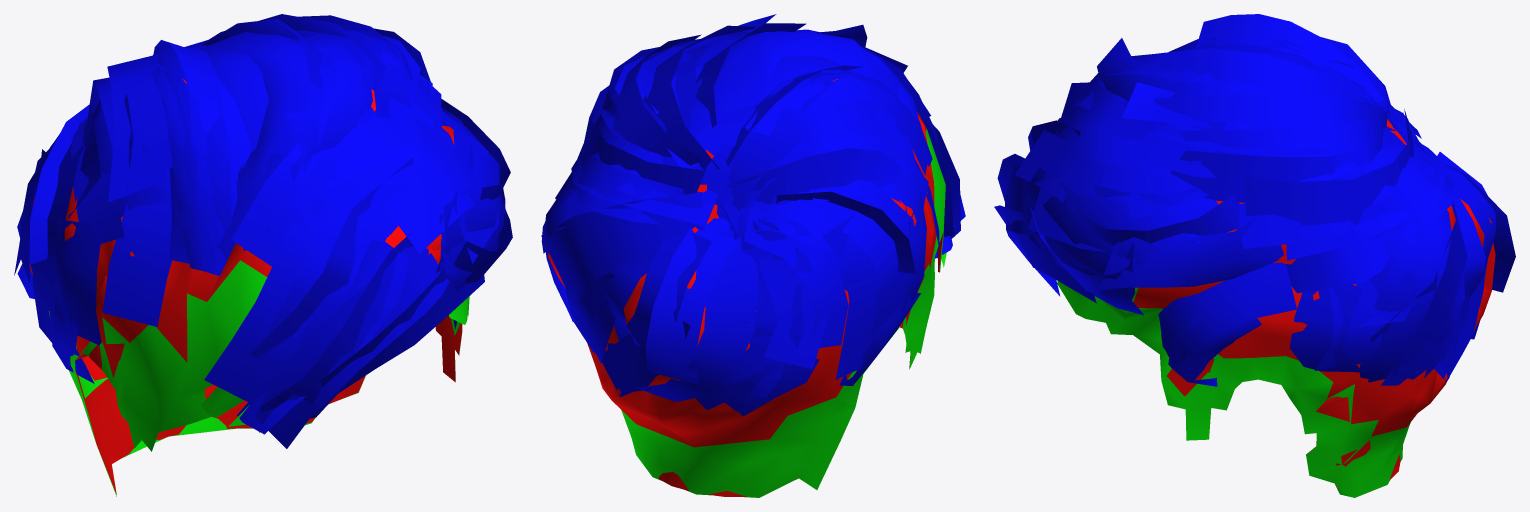
The model's file is hair_004.obj.
The picture shows the model from 3 angles, left to right: view 1: azimuth 30°, elevation 25°; view 2: azimuth 150°, elevation 25°; view 3: azimuth 270°, elevation 25°; orthographic projection. The views are drawn at different scales.
Bounding box in the file's own units: 19 × 21.64 × 24.04.
